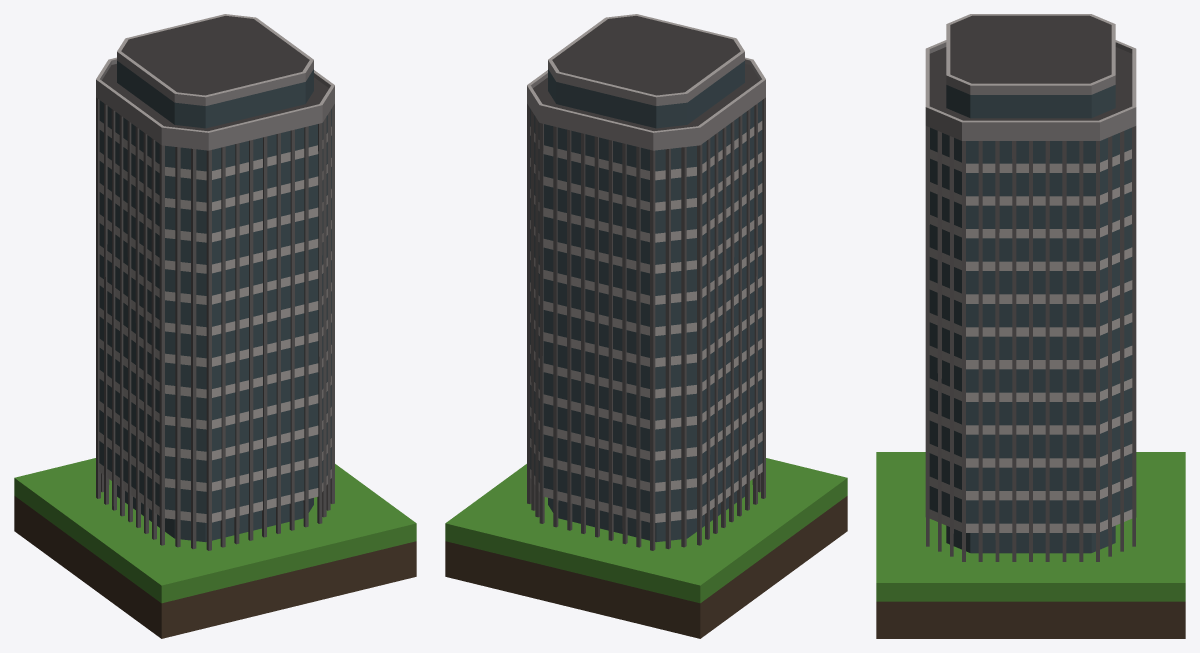
File: tiles_skyscraper-large.fbx
3 renders of one model, left to right at view 1: azimuth 30°, elevation 25°; view 2: azimuth 150°, elevation 25°; view 3: azimuth 270°, elevation 25°, orthographic. The views are drawn at different scales.
Parts seen in each view (by area): view 1: tiles_skyscraper_large; view 2: tiles_skyscraper_large; view 3: tiles_skyscraper_large.
Boxes of the visible parts, box(x1,y1,x2,y2) form: tiles_skyscraper_large: box(14, 14, 416, 638); tiles_skyscraper_large: box(445, 14, 847, 638); tiles_skyscraper_large: box(876, 14, 1185, 638).
Bounding box in the file's own units: 107 × 200 × 107.
